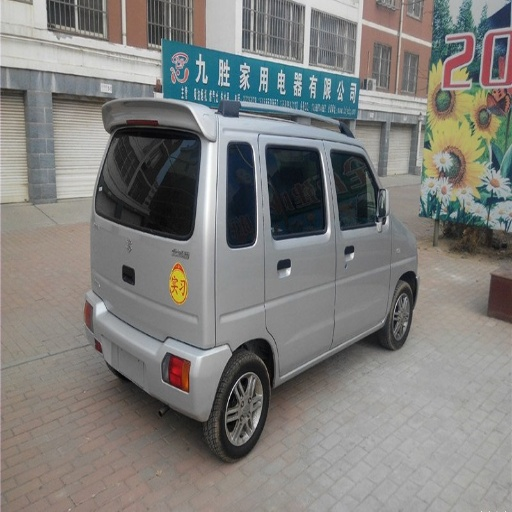trunk: (168, 339, 214, 404)
